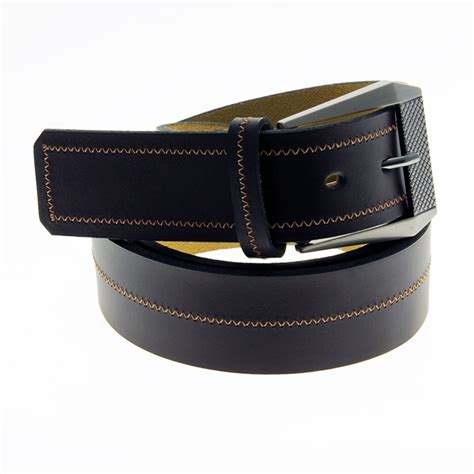cuero: (32, 101, 436, 372)
